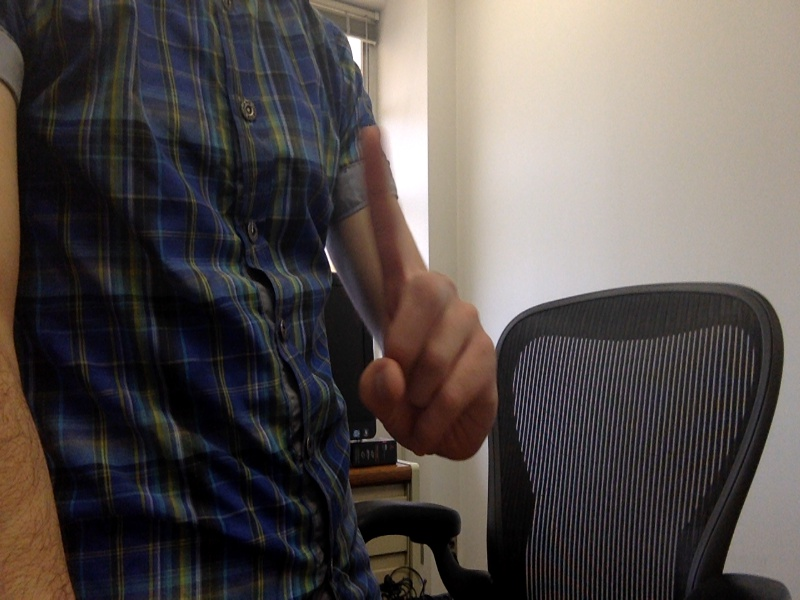1-hand: (345, 126, 502, 456)
